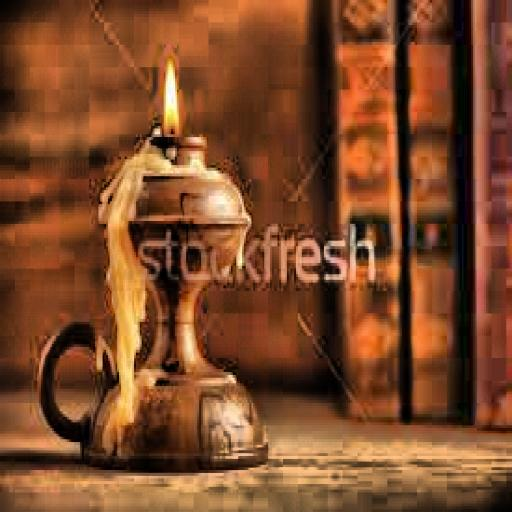fire: (149, 53, 192, 132)
